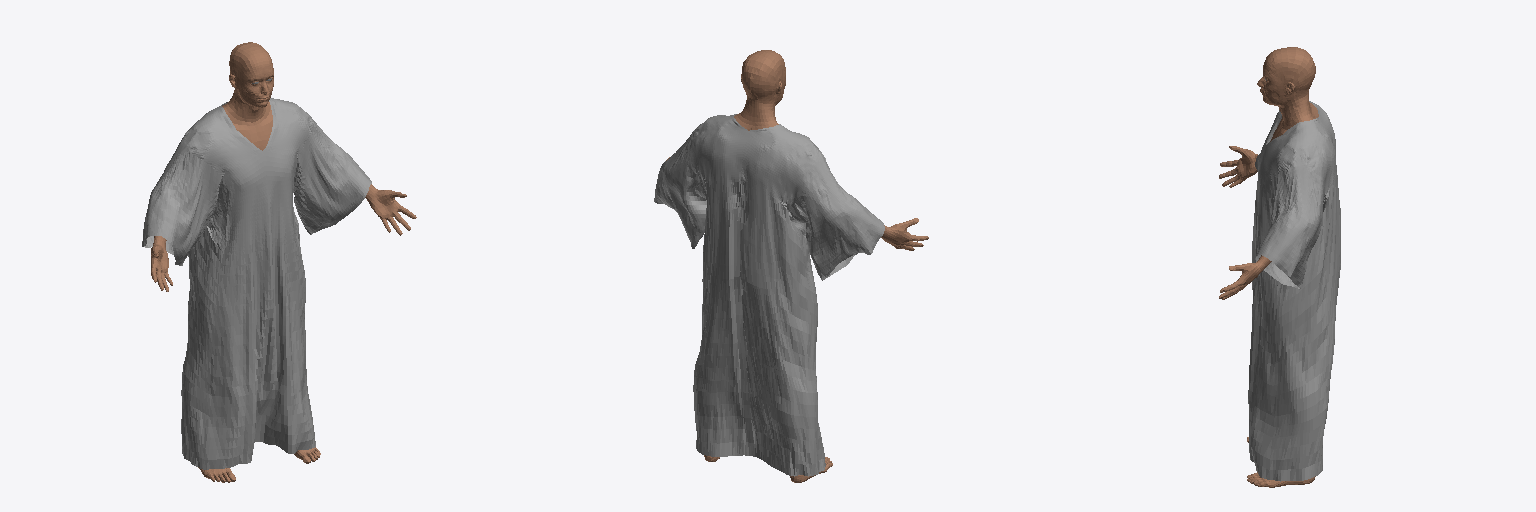
Rendered from Monk.obj.
3 renders of one model, left to right at view 1: azimuth 30°, elevation 25°; view 2: azimuth 150°, elevation 25°; view 3: azimuth 270°, elevation 25°, orthographic.
Parts seen in each view (by area): view 1: Plane.001, jesus-base; view 2: Plane.001, jesus-base; view 3: Plane.001, jesus-base.
Boxes of the visible parts, x1,y1,x2,y2 form: Plane.001: [142, 98, 371, 469]; jesus-base: [151, 42, 416, 482]; Plane.001: [654, 114, 884, 476]; jesus-base: [666, 50, 928, 482]; Plane.001: [1248, 101, 1340, 481]; jesus-base: [1219, 47, 1318, 487].
Size of the model in its own units: 1.21 by 1.82 by 0.4923.